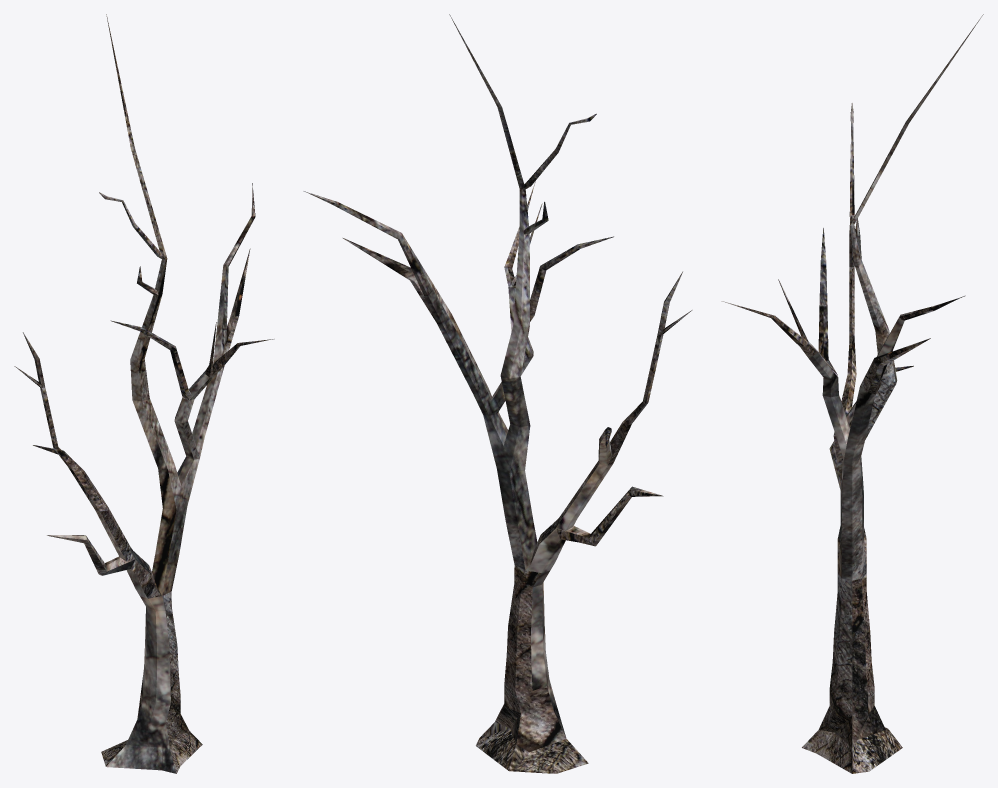
File: tree0 with texture.glb
3 renders of one model, left to right at view 1: azimuth 30°, elevation 25°; view 2: azimuth 150°, elevation 25°; view 3: azimuth 270°, elevation 25°, orthographic. The views are drawn at different scales.
Parts seen in each view (by area): view 1: Cylinder; view 2: Cylinder; view 3: Cylinder.
Boxes of the visible parts, x1,y1,x2,y2 form: Cylinder: (14,14,274,773); Cylinder: (303,14,692,773); Cylinder: (721,14,983,773).
Size of the model in its own units: 1.61 by 3.65 by 1.17.
Materials: 1 (1 with a texture image).
